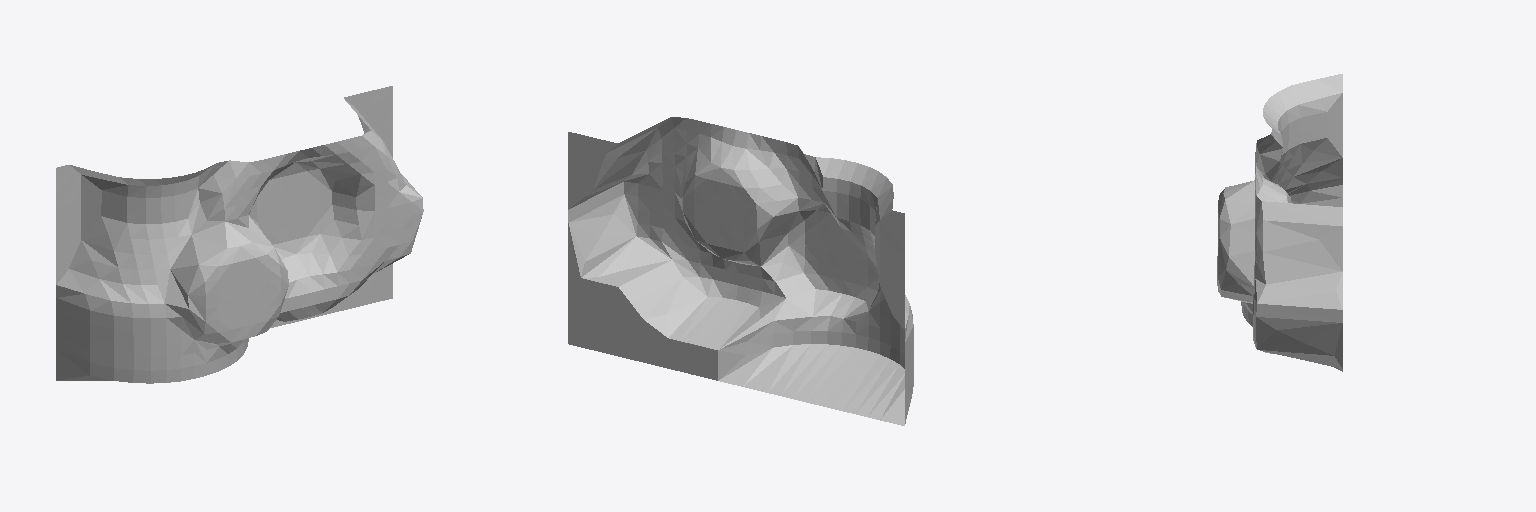
The model's file is tiny_stamp-low.obj.
3 views of the same model, side by side, from view 1: azimuth 30°, elevation 25°; view 2: azimuth 150°, elevation 25°; view 3: azimuth 270°, elevation 25° (orthographic).
Size of the model in its own units: 2 by 1.21 by 0.6461.